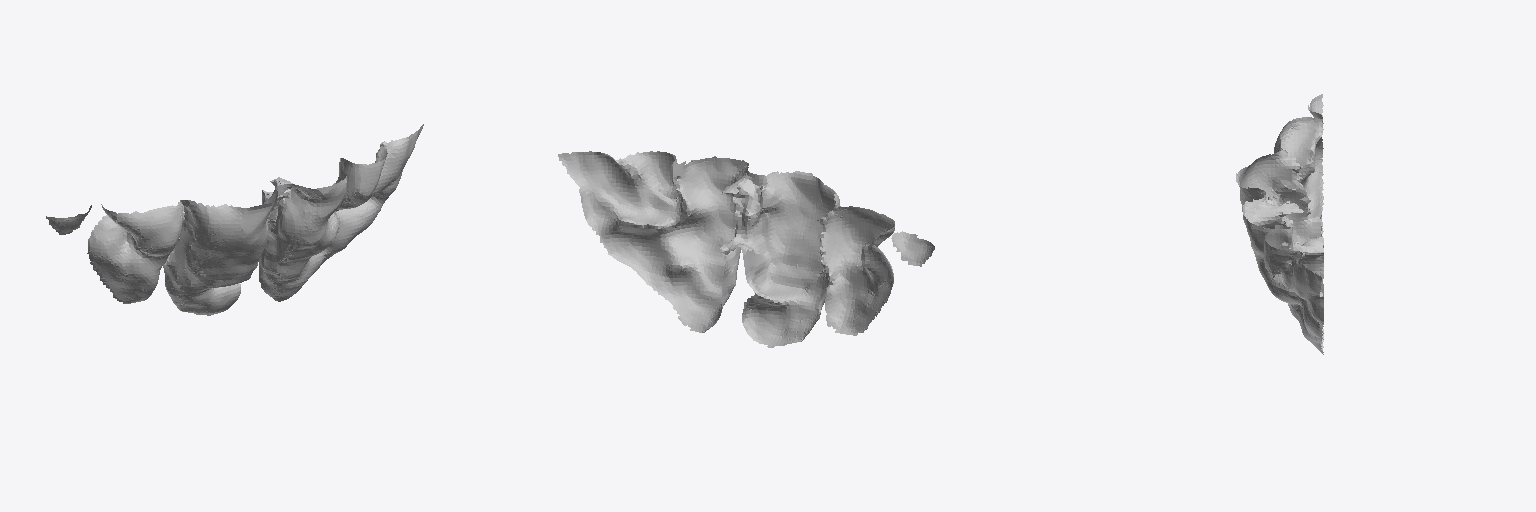
The model's file is cortex_0_0.obj.
The picture shows the model from 3 angles: view 1: azimuth 30°, elevation 25°; view 2: azimuth 150°, elevation 25°; view 3: azimuth 270°, elevation 25°; orthographic projection.
Parts seen in each view (by area): view 1: Cortex_0_0_Mehrdad_SagT1_Cortex_v1_No_Smooth_OBJ.000_Mehrdad_Sa; view 2: Cortex_0_0_Mehrdad_SagT1_Cortex_v1_No_Smooth_OBJ.000_Mehrdad_Sa; view 3: Cortex_0_0_Mehrdad_SagT1_Cortex_v1_No_Smooth_OBJ.000_Mehrdad_Sa.
Boxes of the visible parts, x1,y1,x2,y2 form: Cortex_0_0_Mehrdad_SagT1_Cortex_v1_No_Smooth_OBJ.000_Mehrdad_Sa: [46, 124, 423, 315]; Cortex_0_0_Mehrdad_SagT1_Cortex_v1_No_Smooth_OBJ.000_Mehrdad_Sa: [558, 151, 934, 347]; Cortex_0_0_Mehrdad_SagT1_Cortex_v1_No_Smooth_OBJ.000_Mehrdad_Sa: [1236, 94, 1323, 354].
Bounding box in the file's own units: 73.29 × 26.9 × 14.87.